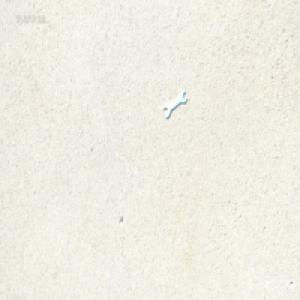Wrench: (163, 90, 186, 118)
